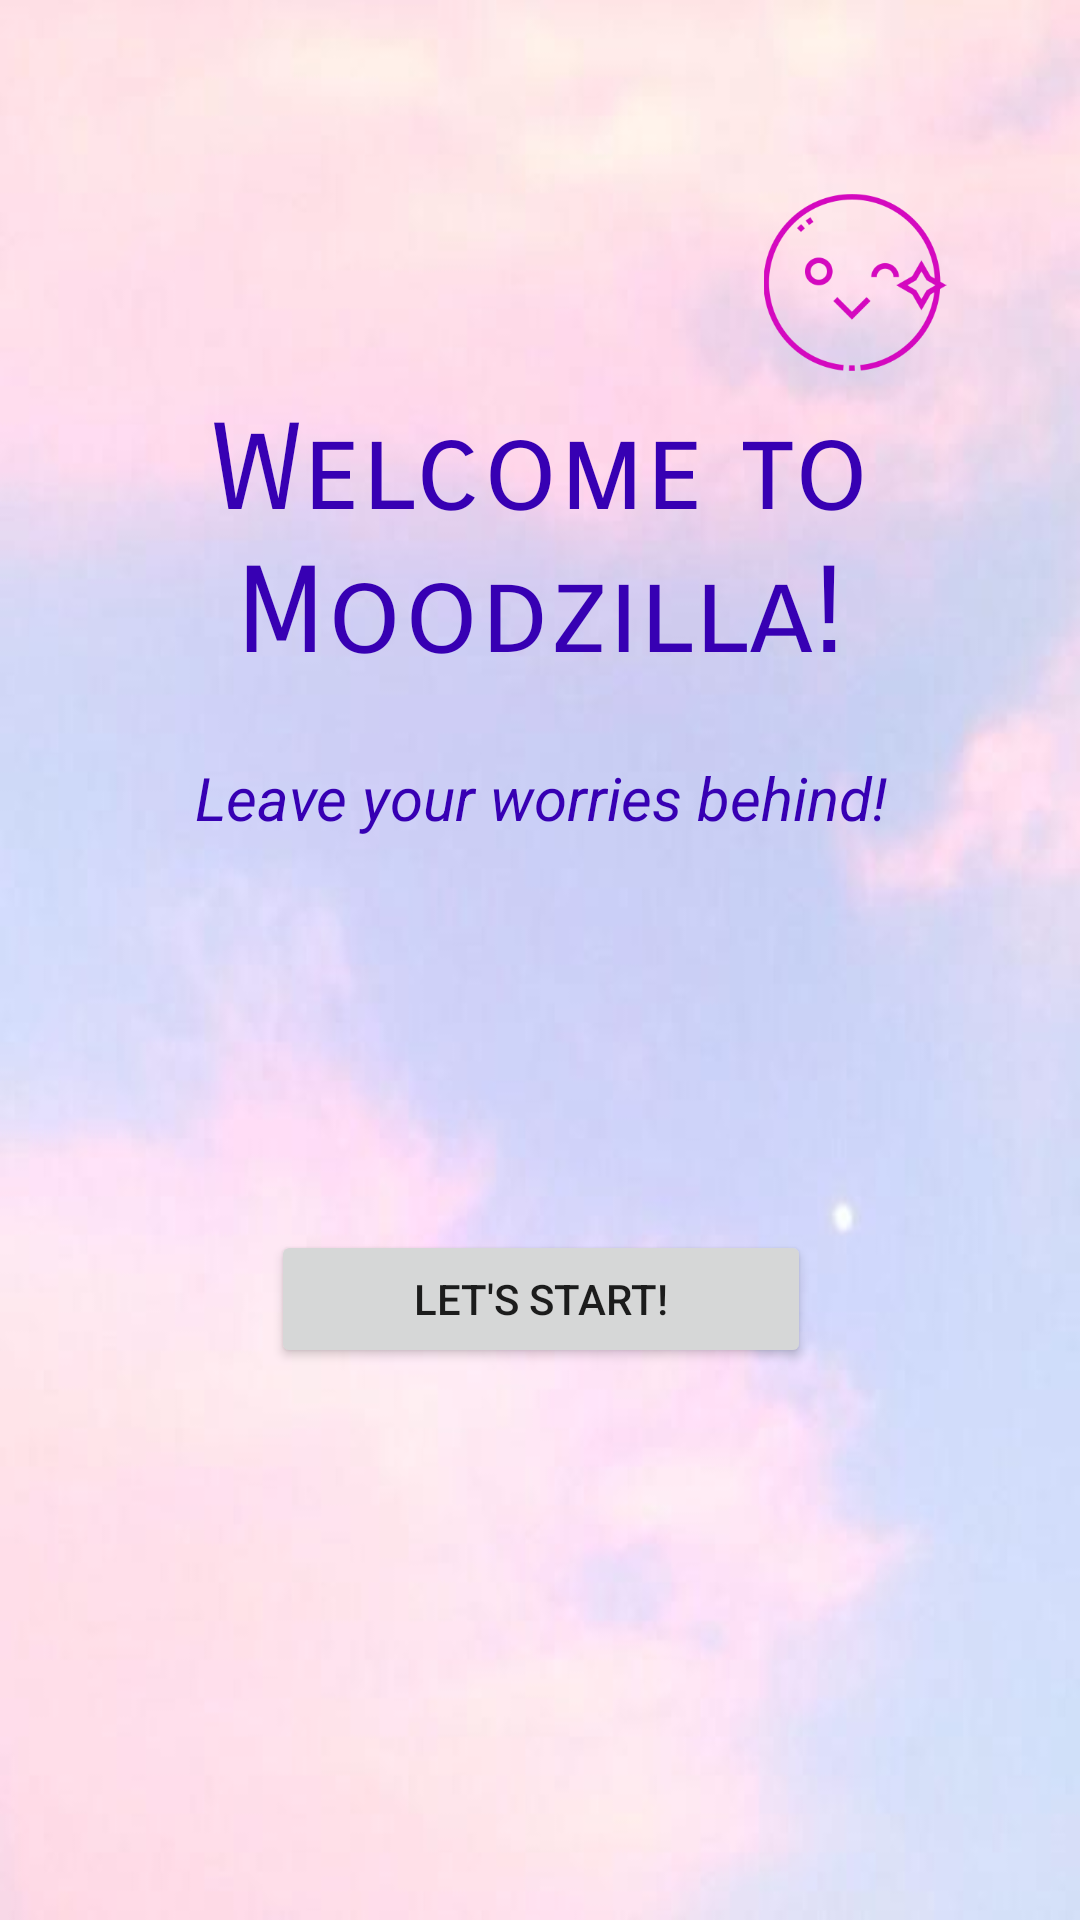

Where icons sit on this 1080*1920 app screen, as [x1, y1, x2, y2]:
wink: [735, 191, 975, 374]
